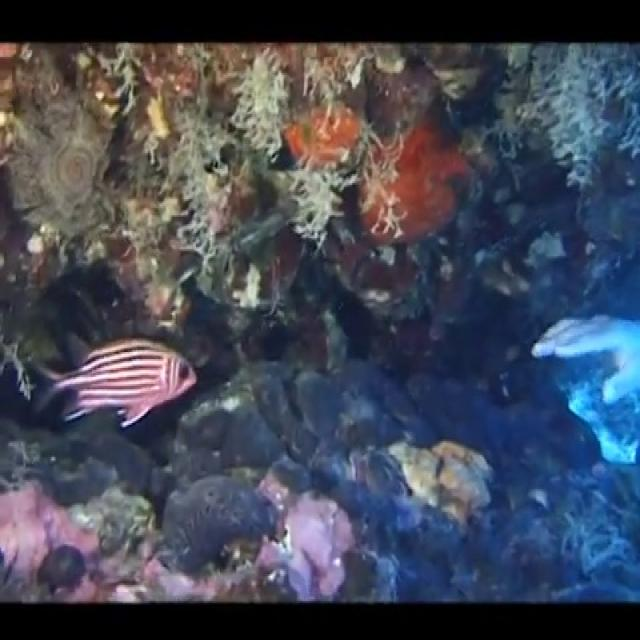Asker Baligi: (38, 332, 198, 430)
